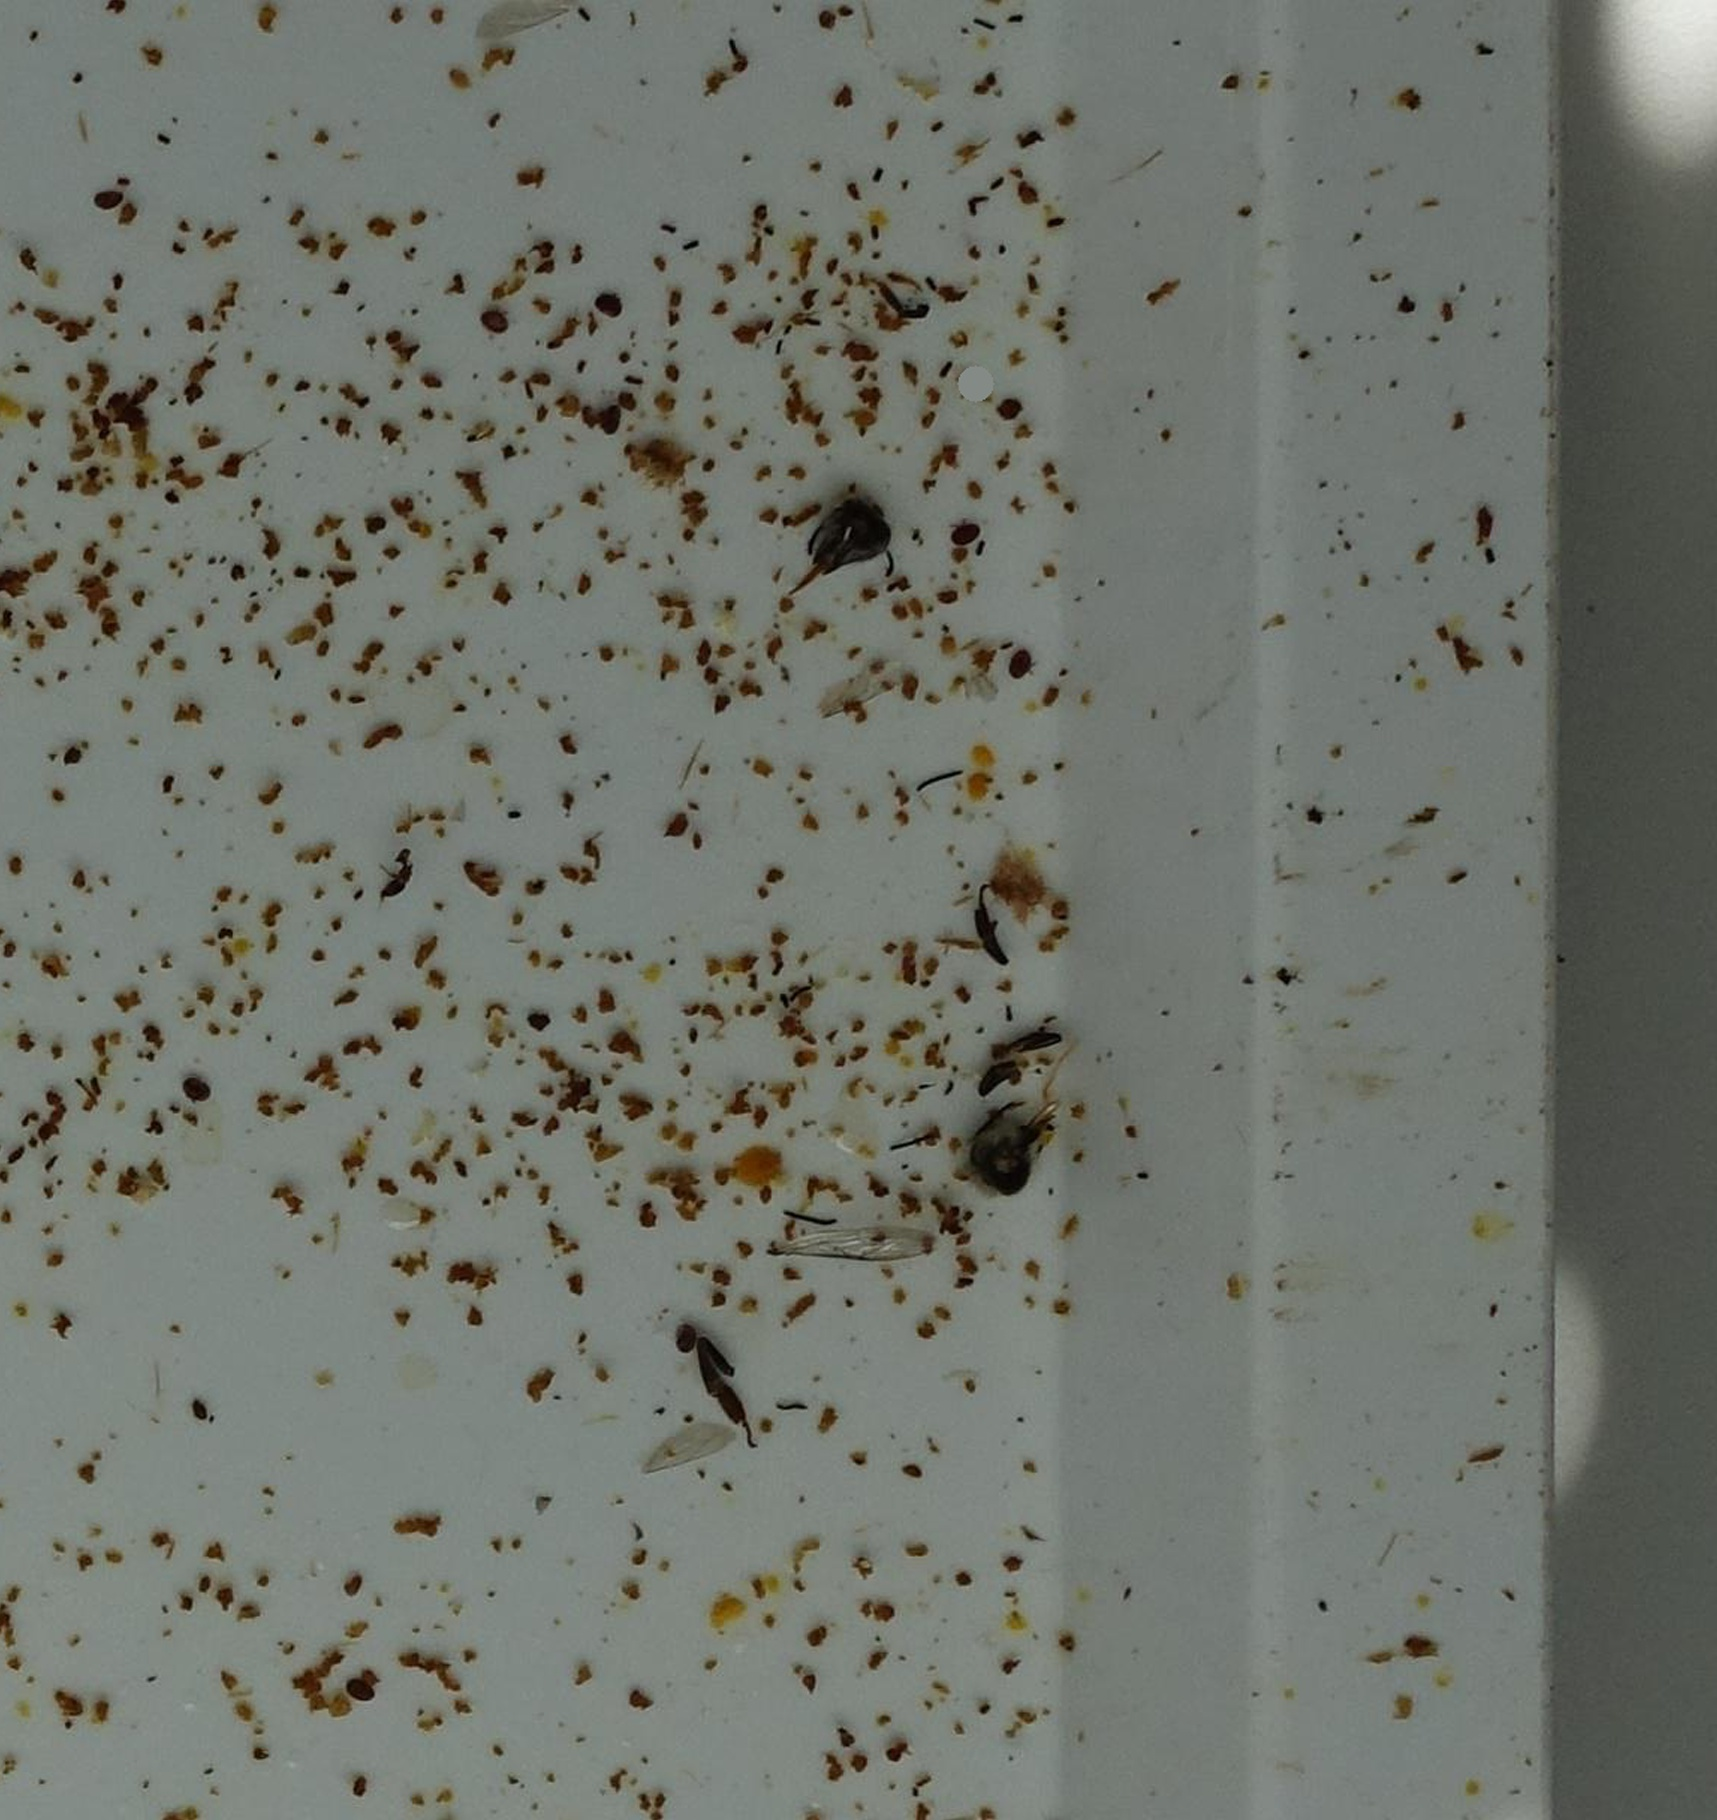Varroa: (344, 1675, 382, 1710), (668, 1326, 700, 1362), (1002, 647, 1034, 679), (587, 290, 620, 323), (594, 402, 625, 434), (179, 1079, 210, 1112), (95, 189, 126, 219), (483, 303, 512, 336), (950, 523, 980, 550)
